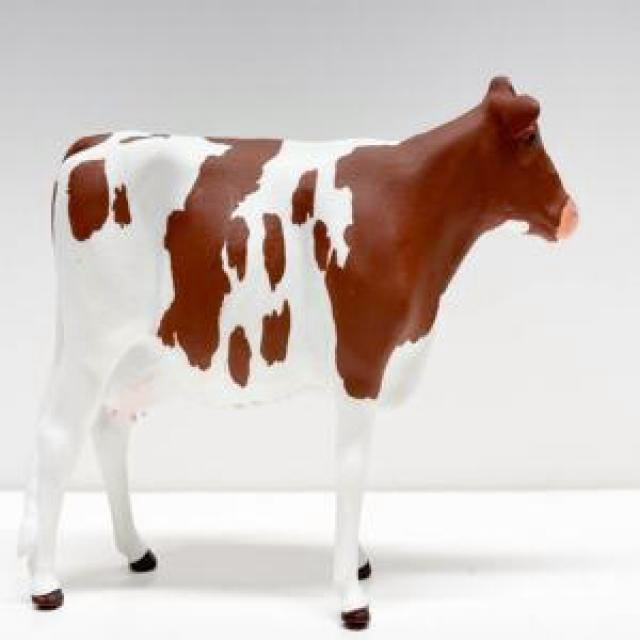cow: (21, 78, 578, 629)
